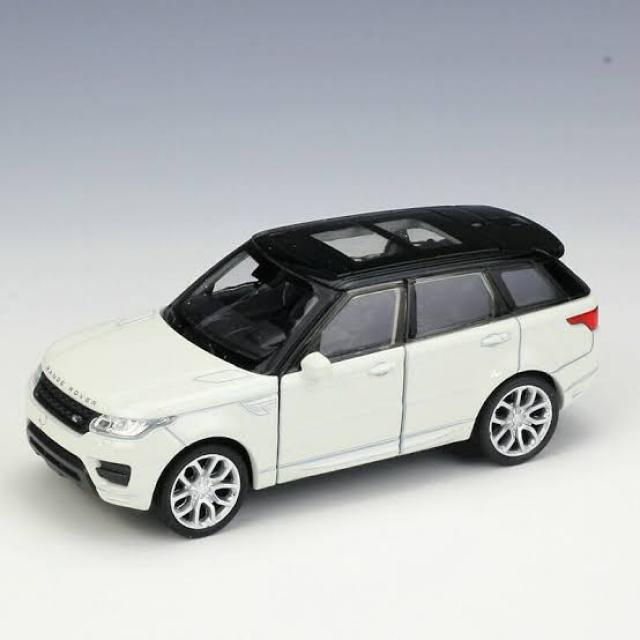Car: (24, 202, 600, 540)
